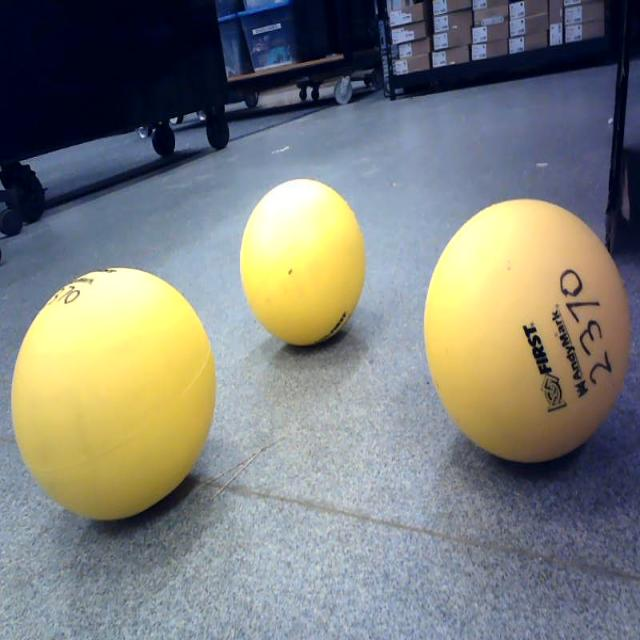Fuel: (424, 200, 632, 462), (12, 267, 215, 520), (240, 179, 366, 346)
